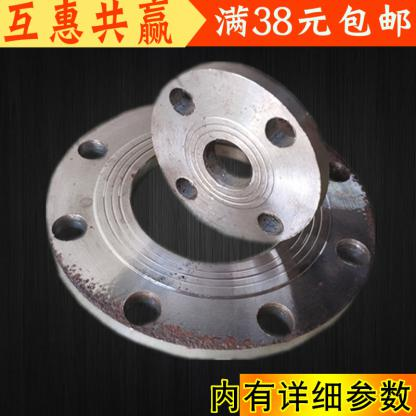FOD: (42, 93, 384, 368), (144, 60, 336, 248)
